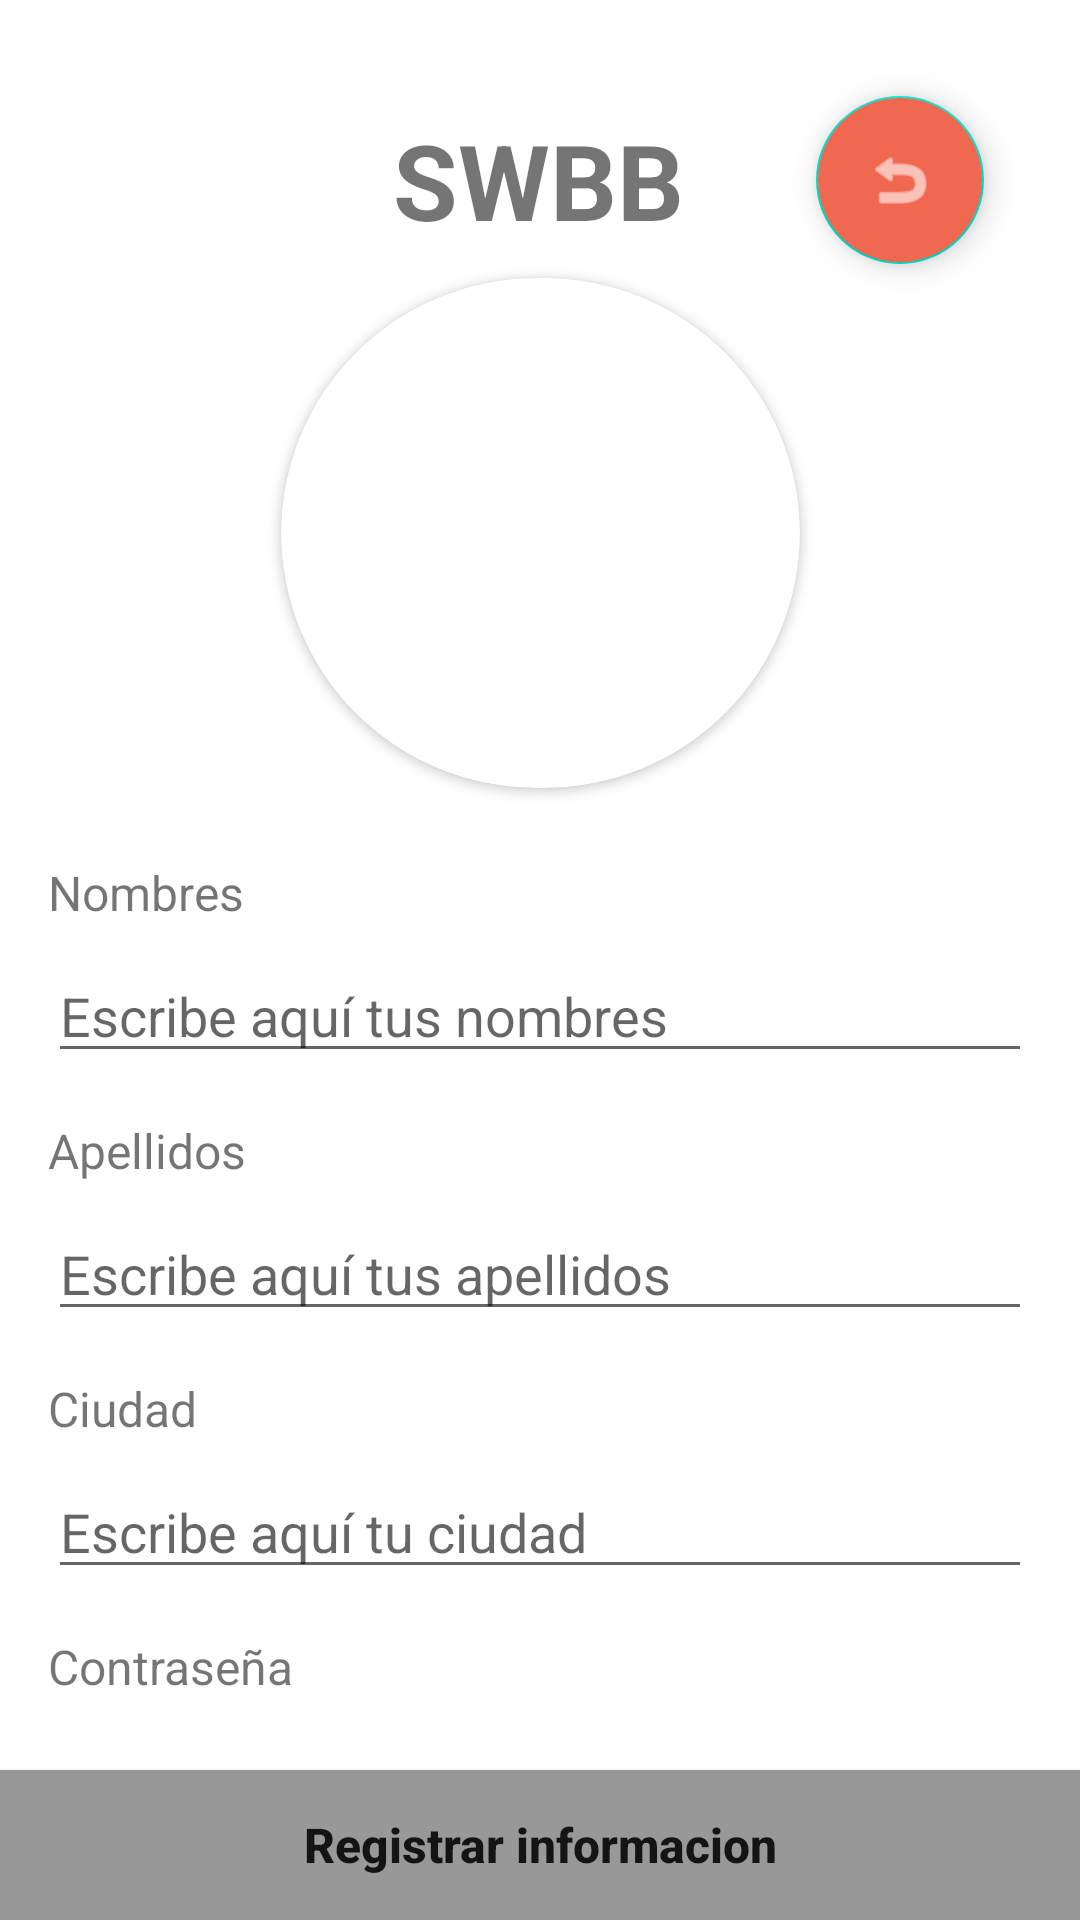

Screen size 1080 × 1920. Icon name, then its center in pixels as (x=x, y=y):
revert: (x=900, y=180)
